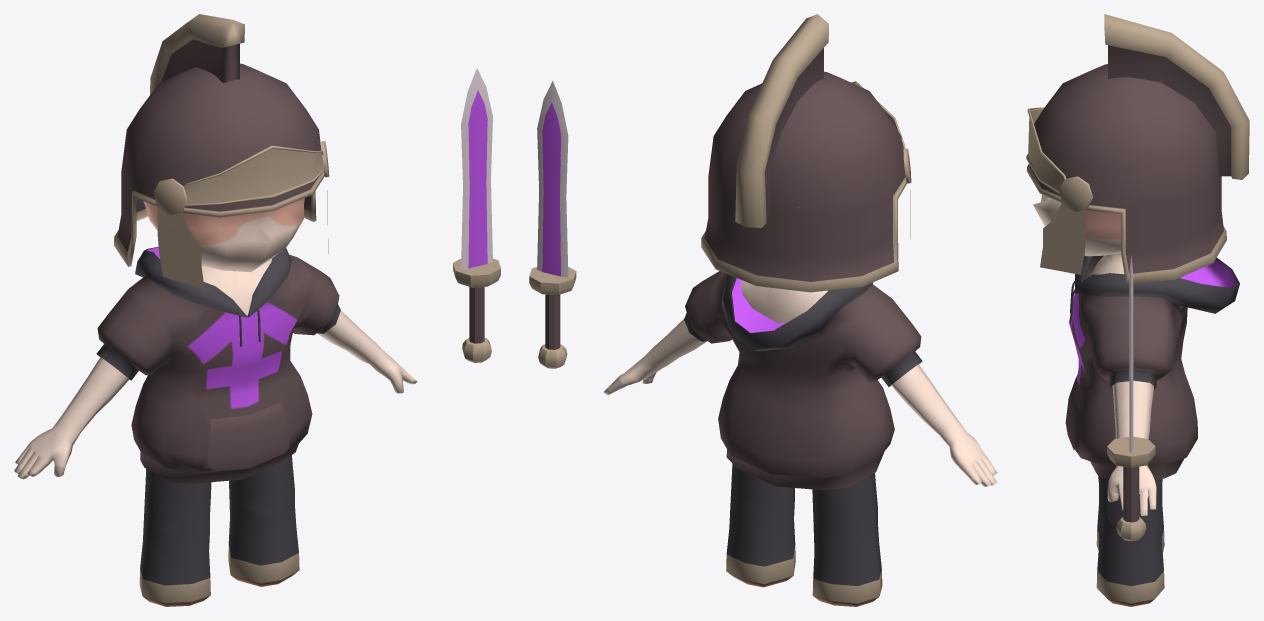
Rendered from Stage1_Idiot1.fbx.
3 views of the same model, side by side, from view 1: azimuth 30°, elevation 25°; view 2: azimuth 150°, elevation 25°; view 3: azimuth 270°, elevation 25° (orthographic). The views are drawn at different scales.
Parts seen in each view (by area): view 1: polySurface75; view 2: polySurface75; view 3: polySurface75.
Boxes of the visible parts, bbox=[...] form: polySurface75: bbox=[14, 14, 500, 606]; polySurface75: bbox=[529, 14, 997, 606]; polySurface75: bbox=[1026, 14, 1249, 606].
Bounding box in the file's own units: 14.89 × 17.14 × 6.2.
